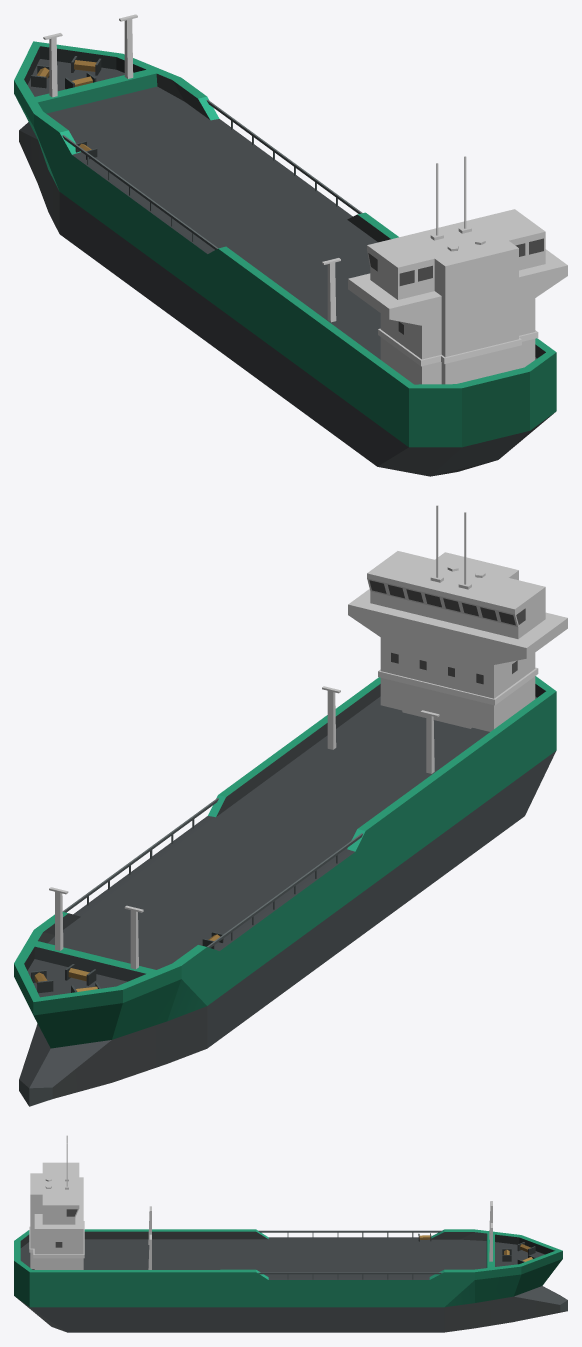
File: LargeShip002.fbx
The picture shows the model from 3 angles, top to bottom: view 1: azimuth 30°, elevation 25°; view 2: azimuth 150°, elevation 25°; view 3: azimuth 270°, elevation 25°; orthographic projection. The views are drawn at different scales.
Visible parts, largest first — view 1: LargeShip002; view 2: LargeShip002; view 3: LargeShip002.
Boxes of the visible parts, x1,y1,x2,y2 form: LargeShip002: (14,14,567,476); LargeShip002: (14,505,567,1106); LargeShip002: (14,1135,567,1332).
Size of the model in its own units: 796 by 1307 by 3601.
